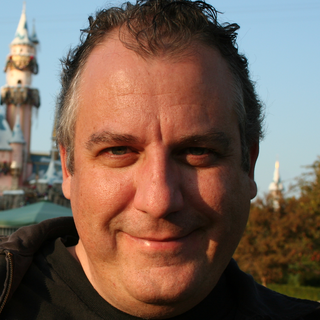eye: (93, 140, 139, 164)
